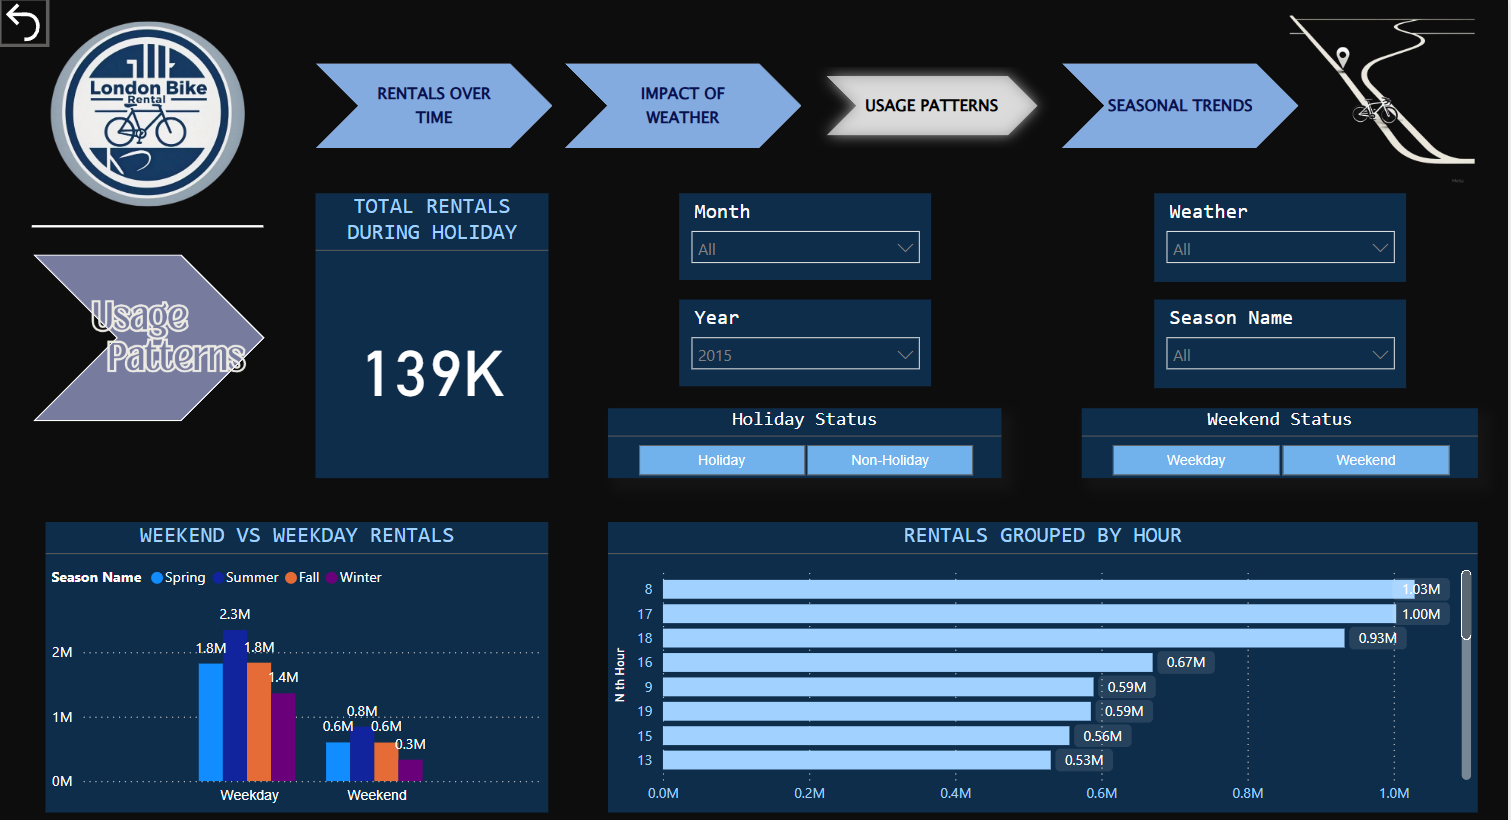

The dashboard page shown, as its layout file describes it:
{"tool":"powerbi","page":{"name":"USAGE PATTERNS","canvas":[1280,720],"ordinal":2},"visuals":[{"type":"image","box":[29.1,15.6,196.4,166.3],"z":0},{"type":"shape","box":[29.1,111.2,196.4,166.3],"z":1000},{"type":"shape","box":[30.1,218.2,196.4,141.3],"z":2000},{"type":"image","box":[1068,0,212,166.3],"z":3000},{"type":"clusteredBarChart","title":"RENTALS GROUPED BY HOUR","fields":{"Category":["london_merged.Hour"],"Y":["Sum(london_merged.cnt)"]},"box":[517.4,445.4,737.2,246.5],"z":4000},{"type":"clusteredColumnChart","title":"WEEKEND VS WEEKDAY RENTALS","fields":{"Category":["london_merged.Weekend Status"],"Y":["Sum(london_merged.cnt)"],"Series":["london_merged.Season Name"]},"box":[40.7,445.4,426.7,246.5],"z":5000},{"type":"card","title":"TOTAL RENTALS DURING HOLIDAY","fields":{"Values":["london_merged.Holiday Rentals"]},"box":[269.8,166.3,197.7,241.9],"z":6000},{"type":"slicer","title":"Holiday Status","fields":{"Values":["london_merged.Holiday Status"]},"box":[517.4,348.8,333.7,59.3],"z":7000},{"type":"slicer","title":"Weekend Status","fields":{"Values":["london_merged.Weekend Status"]},"box":[918.6,348.8,336,59.3],"z":8000},{"type":"slicer","fields":{"Values":["london_merged.timestamp.Variation.Date Hierarchy.Month"]},"box":[577.9,166.3,214,73.3],"z":9000},{"type":"slicer","fields":{"Values":["london_merged.timestamp.Variation.Date Hierarchy.Year"]},"box":[577.9,257,214,73.3],"z":10000},{"type":"slicer","fields":{"Values":["london_merged.Weather Description"]},"box":[980.2,166.3,214,75.6],"z":11000},{"type":"slicer","fields":{"Values":["london_merged.Season Name"]},"box":[980.2,257,214,75.6],"z":12000},{"type":"image","box":[0,194.2,269.8,277.9],"z":13000},{"type":"pageNavigator","title":"RENTALS OVER TIME","box":[269.8,55.8,836,72.1],"z":13001},{"type":"actionButton","box":[0,0,43.6,42.6],"z":13002}]}

Visuals, with their boxes on the page's 1280x720 design canvas (x1, y1, x2, y2). These are canvas units, not pixel positions in the 1511x820 screenshot, which may show the page scaled, cropped or inside an application window:
image: <box>29,16,226,182</box>
shape: <box>29,111,226,278</box>
shape: <box>30,218,226,360</box>
image: <box>1068,0,1280,166</box>
"RENTALS GROUPED BY HOUR" clusteredBarChart: <box>517,445,1255,692</box>
"WEEKEND VS WEEKDAY RENTALS" clusteredColumnChart: <box>41,445,467,692</box>
"TOTAL RENTALS DURING HOLIDAY" card: <box>270,166,468,408</box>
"Holiday Status" slicer: <box>517,349,851,408</box>
"Weekend Status" slicer: <box>919,349,1255,408</box>
slicer - london_merged.timestamp.Variation.Date Hierarchy.Month: <box>578,166,792,240</box>
slicer - london_merged.timestamp.Variation.Date Hierarchy.Year: <box>578,257,792,330</box>
slicer - london_merged.Weather Description: <box>980,166,1194,242</box>
slicer - london_merged.Season Name: <box>980,257,1194,333</box>
image: <box>0,194,270,472</box>
"RENTALS OVER TIME" pageNavigator: <box>270,56,1106,128</box>
actionButton: <box>0,0,44,43</box>
